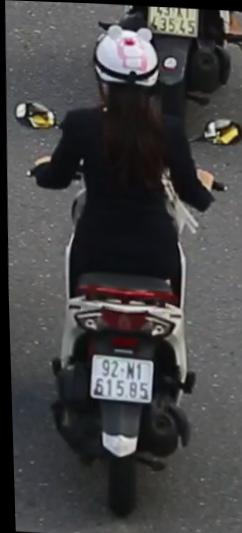LP: (85, 348, 152, 407)
helmet: (85, 15, 167, 123)
